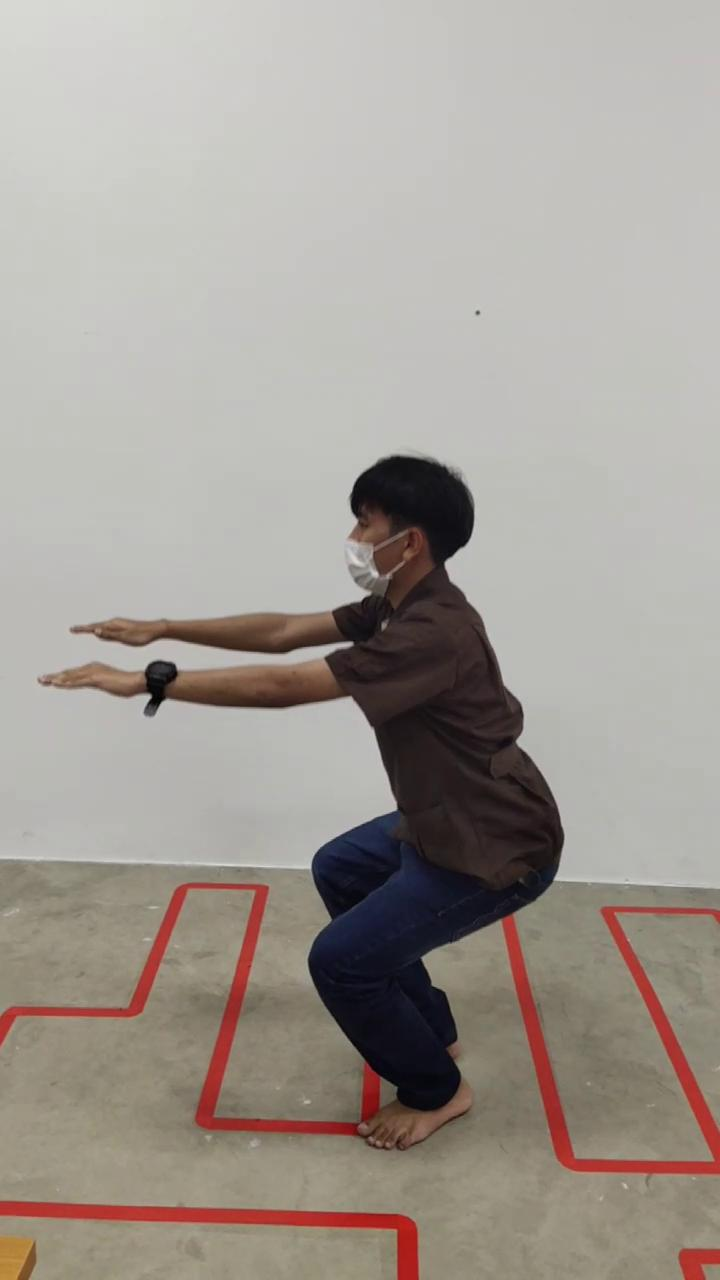squat down: (50, 455, 564, 1153)
